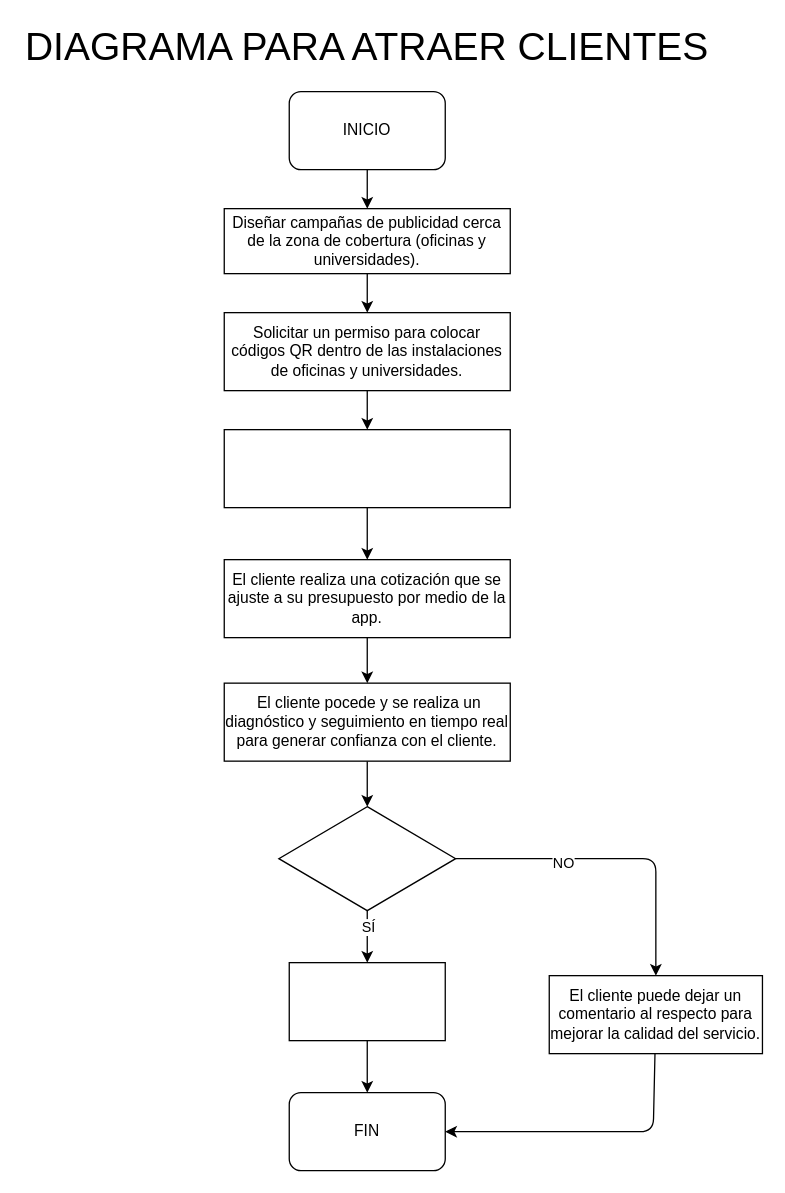
Some shapes in this 785 by 1193 pixel diagram are drawn without their labels. Each missing label, with the box of its shape:
El cliente puede apoyar la aplicación dejando un comentario positivo.: (288, 961, 445, 1041)
Un cliente solicita una reparación/mantenimeinto por medio de la app.: (223, 428, 510, 508)
¿El cliente está satisfecho con el servicio?: (278, 805, 456, 911)
